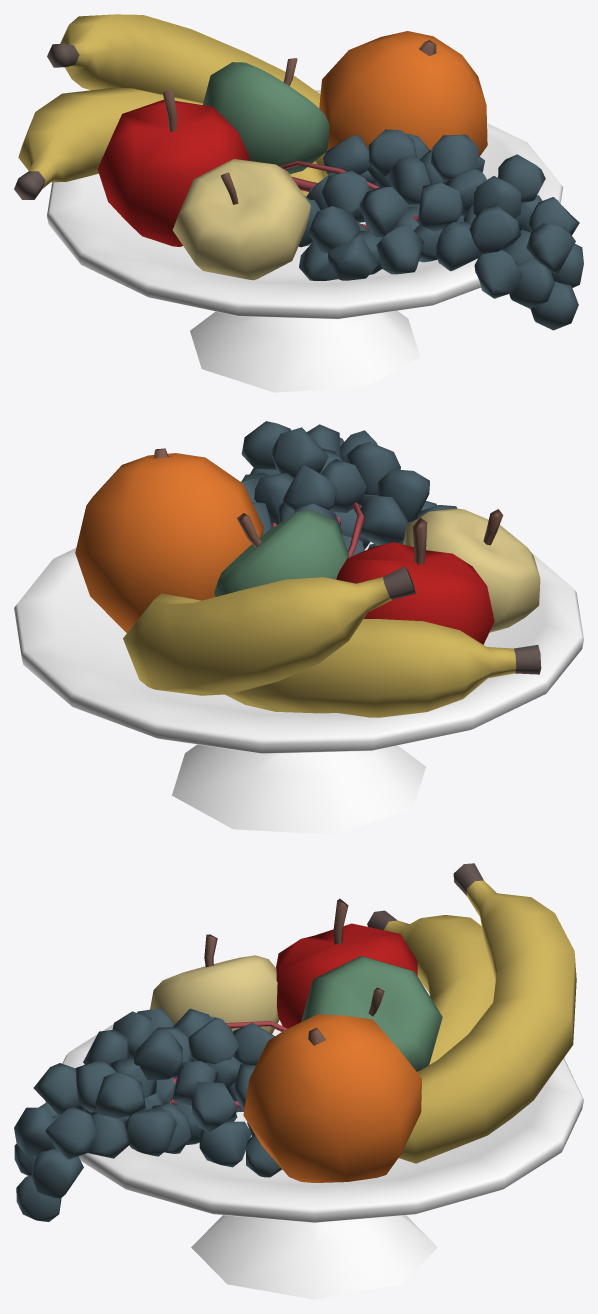
Rendered from prop_002.fbx.
3 renders of one model, top to bottom at view 1: azimuth 30°, elevation 25°; view 2: azimuth 150°, elevation 25°; view 3: azimuth 270°, elevation 25°, orthographic. The views are drawn at different scales.
Parts seen in each view (by area): view 1: prop_002; view 2: prop_002; view 3: prop_002.
Boxes of the visible parts, x1,y1,x2,y2 form: prop_002: (14,14,583,392); prop_002: (14,421,583,834); prop_002: (14,863,583,1299).
Size of the model in its own units: 57.08 by 56.64 by 32.73.
